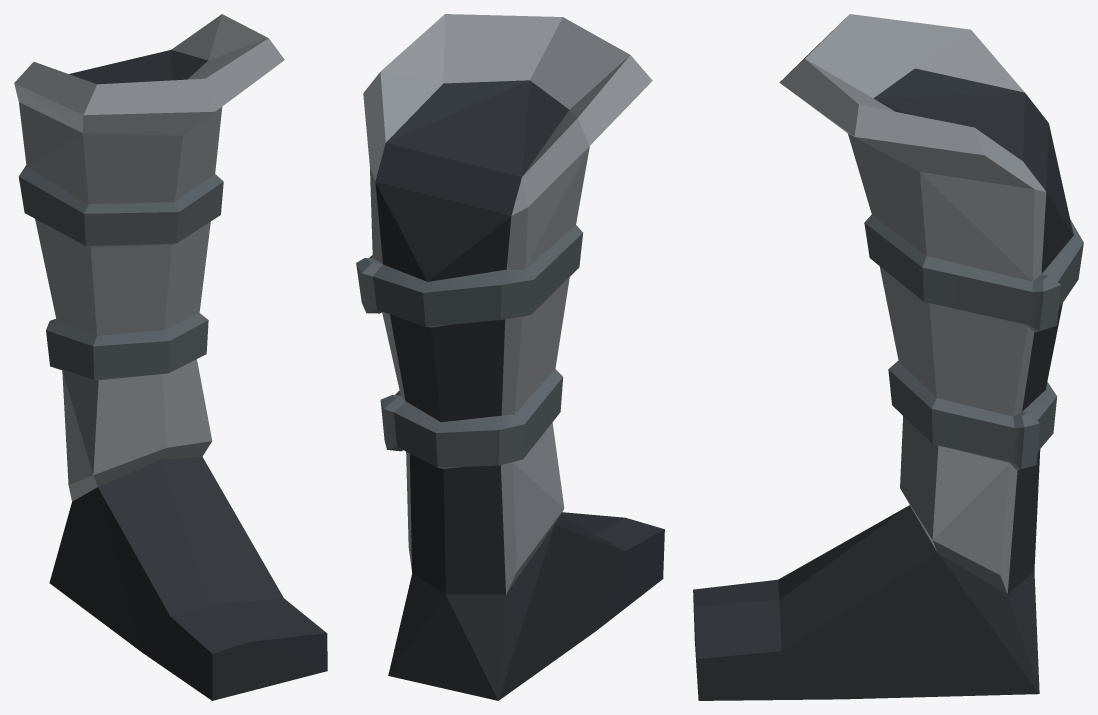
Rendered from Chr_LegRight_Male_08_Static.fbx.
3 renders of one model, left to right at view 1: azimuth 30°, elevation 25°; view 2: azimuth 150°, elevation 25°; view 3: azimuth 270°, elevation 25°, orthographic. The views are drawn at different scales.
Visible parts, largest first — view 1: Chr_LegRight_Male_08_Static; view 2: Chr_LegRight_Male_08_Static; view 3: Chr_LegRight_Male_08_Static.
Part boxes in pixels (box(x1,y1,x2,y2)): Chr_LegRight_Male_08_Static: box(14, 14, 327, 700); Chr_LegRight_Male_08_Static: box(356, 14, 664, 700); Chr_LegRight_Male_08_Static: box(693, 14, 1083, 700).
Size of the model in its own units: 0.1718 by 0.4324 by 0.2532.
